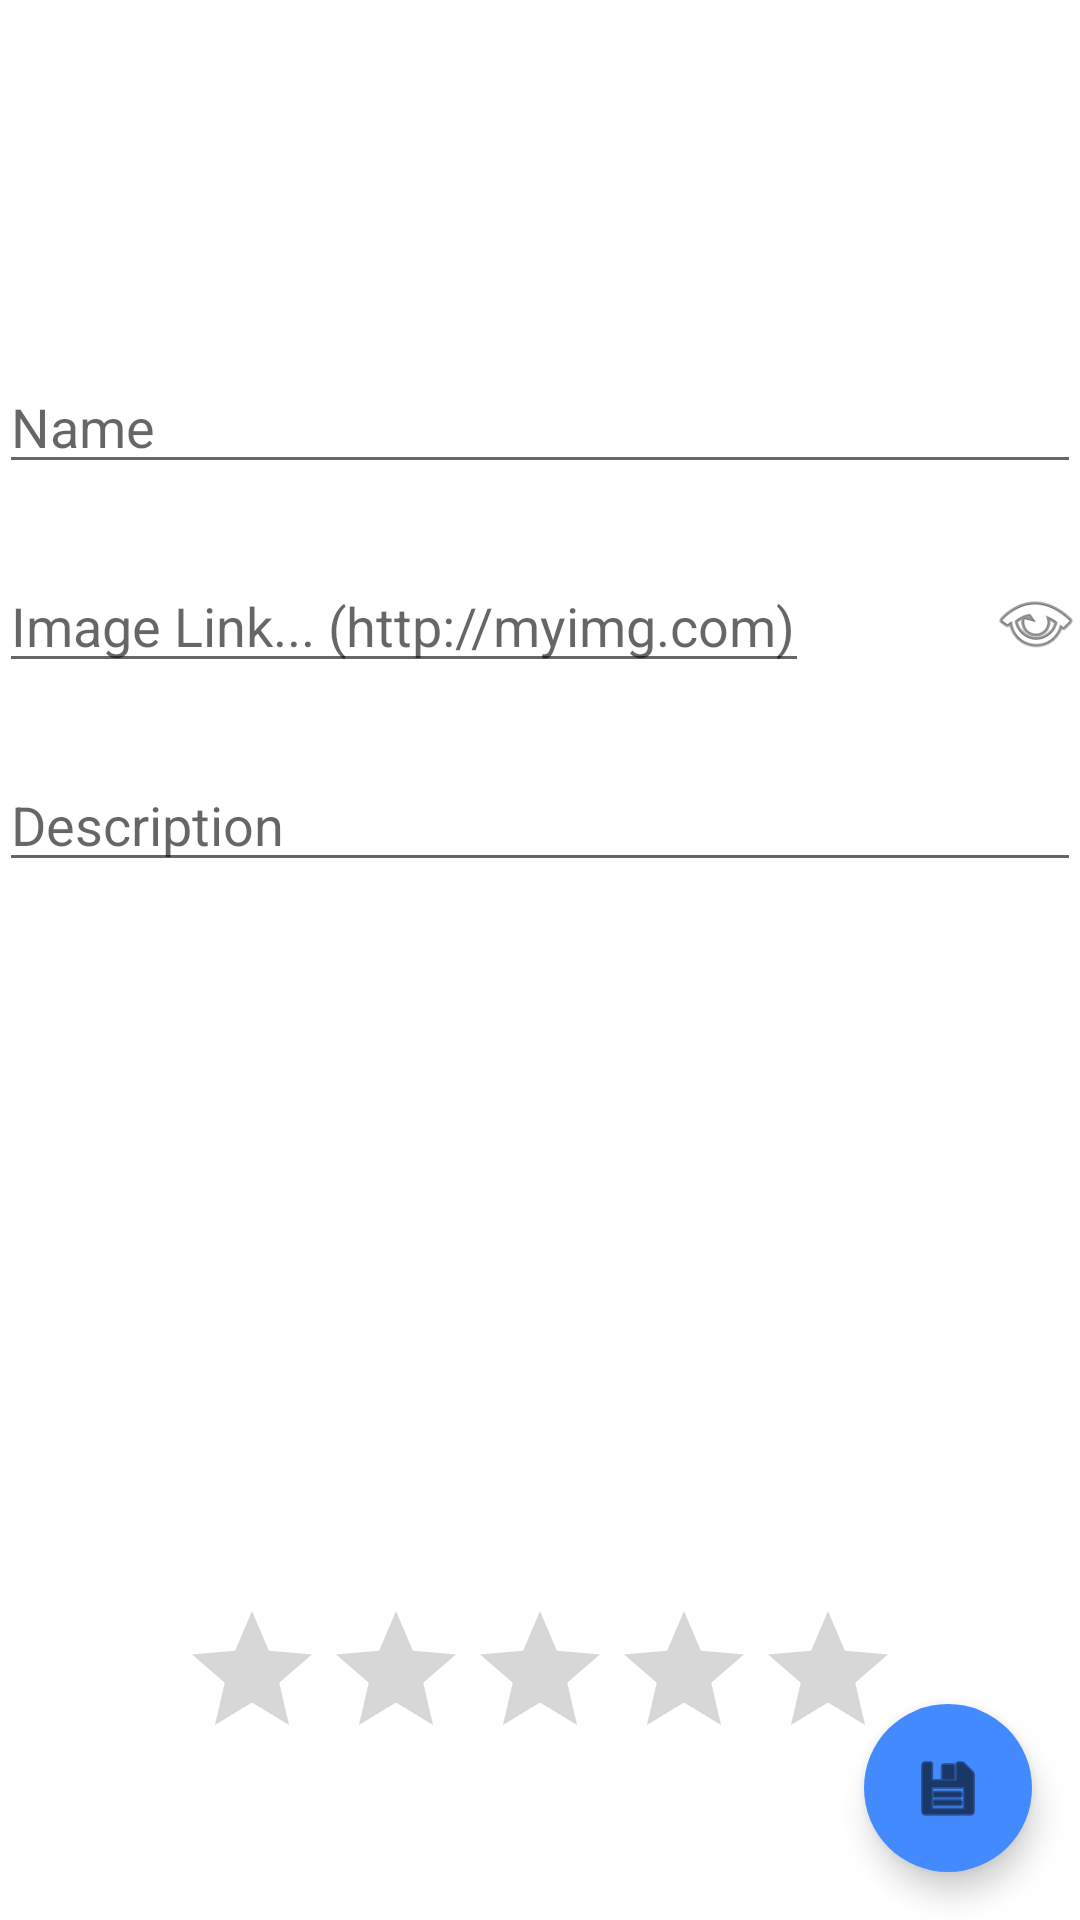

Screen size 1080w x 1920h. Icon name, then its box in pixels as (x1, y1, x2, y2):
save: (864, 1704, 1032, 1872)
view: (999, 601, 1073, 647)
